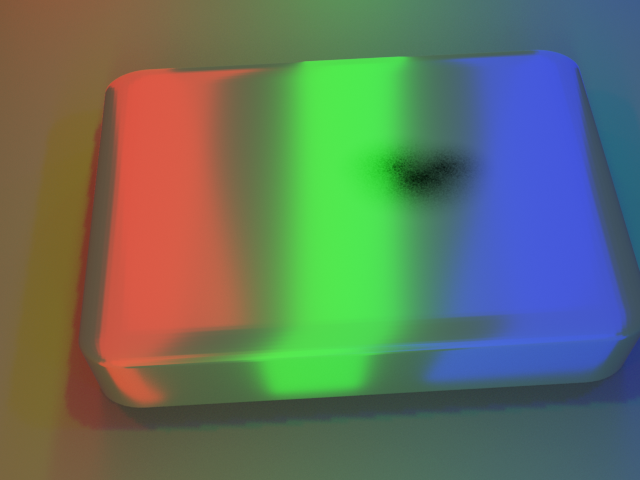stain: (313, 108, 547, 240)
